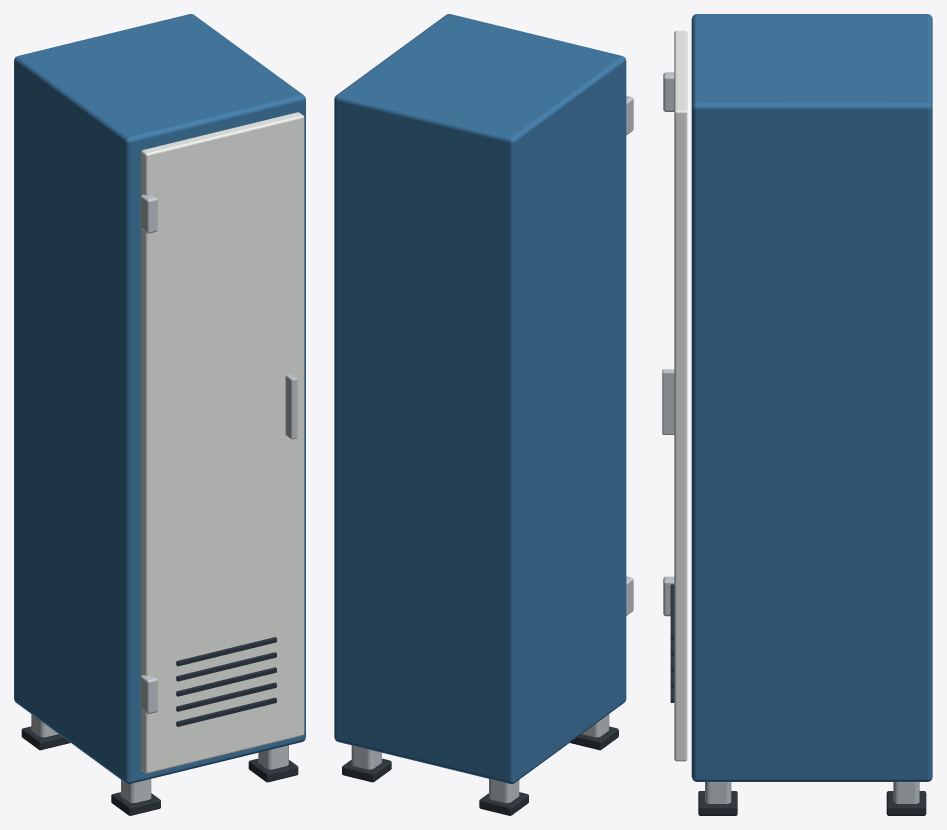
File: changing-locker.glb
3 views of the same model, side by side, from view 1: azimuth 30°, elevation 25°; view 2: azimuth 150°, elevation 25°; view 3: azimuth 270°, elevation 25° (orthographic). The views are drawn at different scales.
Visible parts, largest first — view 1: changing-locker; view 2: changing-locker; view 3: changing-locker.
Boxes of the visible parts, left/top/right/bottom form: changing-locker: left=14, top=14, right=305, bottom=815; changing-locker: left=334, top=14, right=633, bottom=815; changing-locker: left=662, top=14, right=932, bottom=815.
Bounding box in the file's own units: 0.5 × 1.8 × 0.6176.
